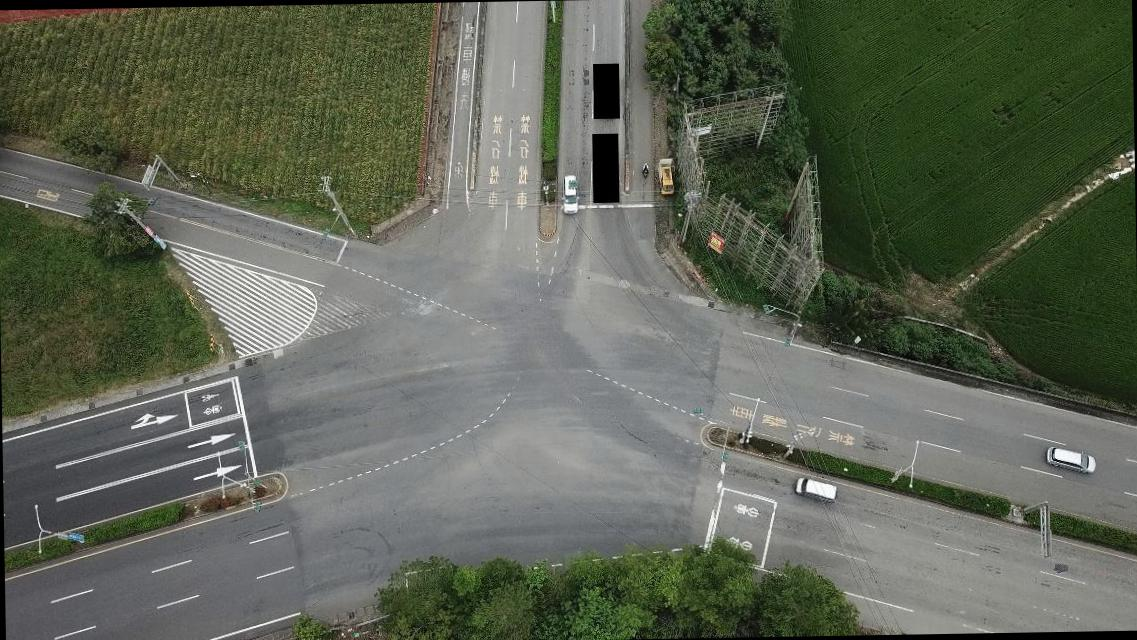vehicle: (1046, 444, 1098, 474), (794, 475, 838, 503), (562, 174, 580, 216), (660, 160, 674, 196)
